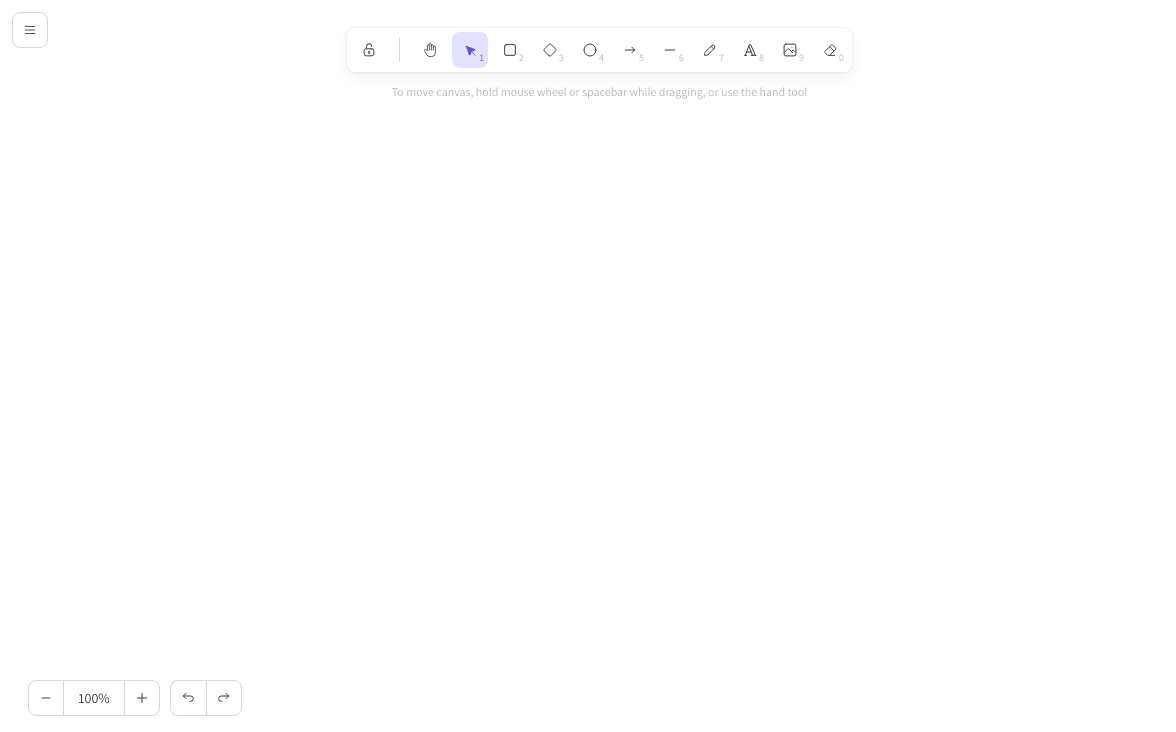
Test: <Creativeboard/> › <MainMenu/> › should update themeToggle text even if MainMenu memoized
This screenshot has width=1176, height=732.
Step 1. Click the button with class "dropdown-menu-button" → (30, 30), box [12, 12, 48, 48]
(page scrolled)
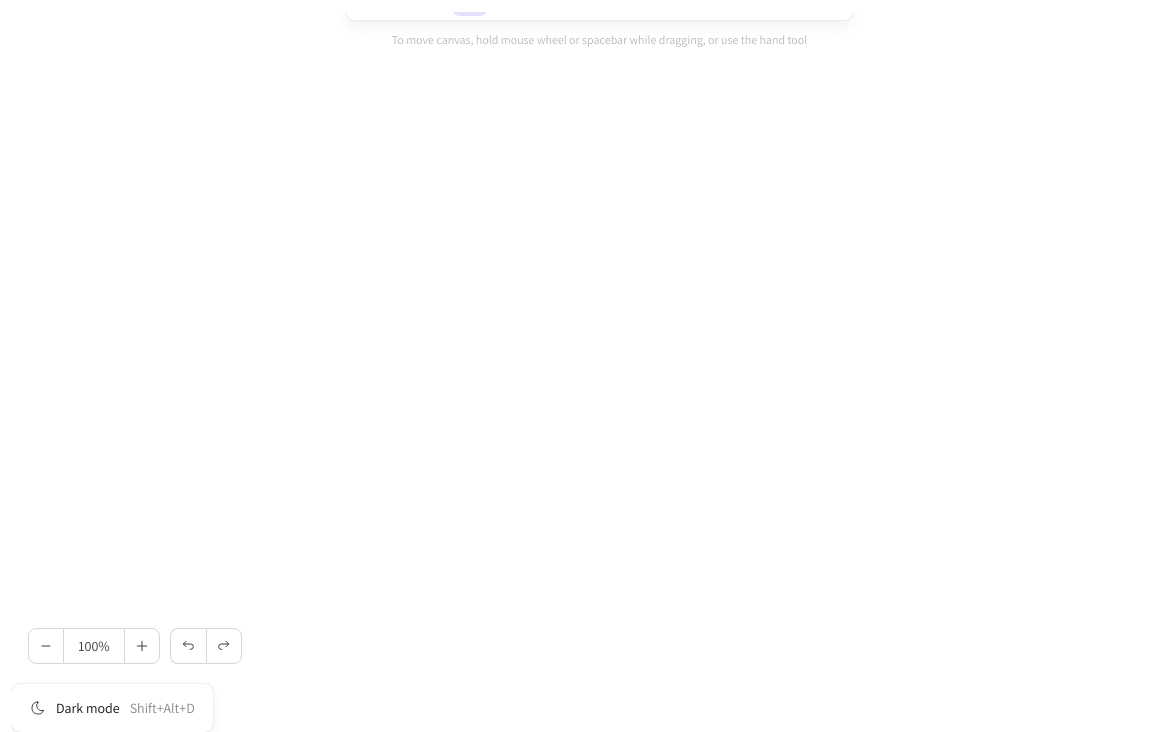
Now the button with test id "toggle-dark-mode" shows "Dark mode"
Step 2. Click the button with test id "toggle-dark-mode" → (112, 708), box [20, 692, 205, 724]
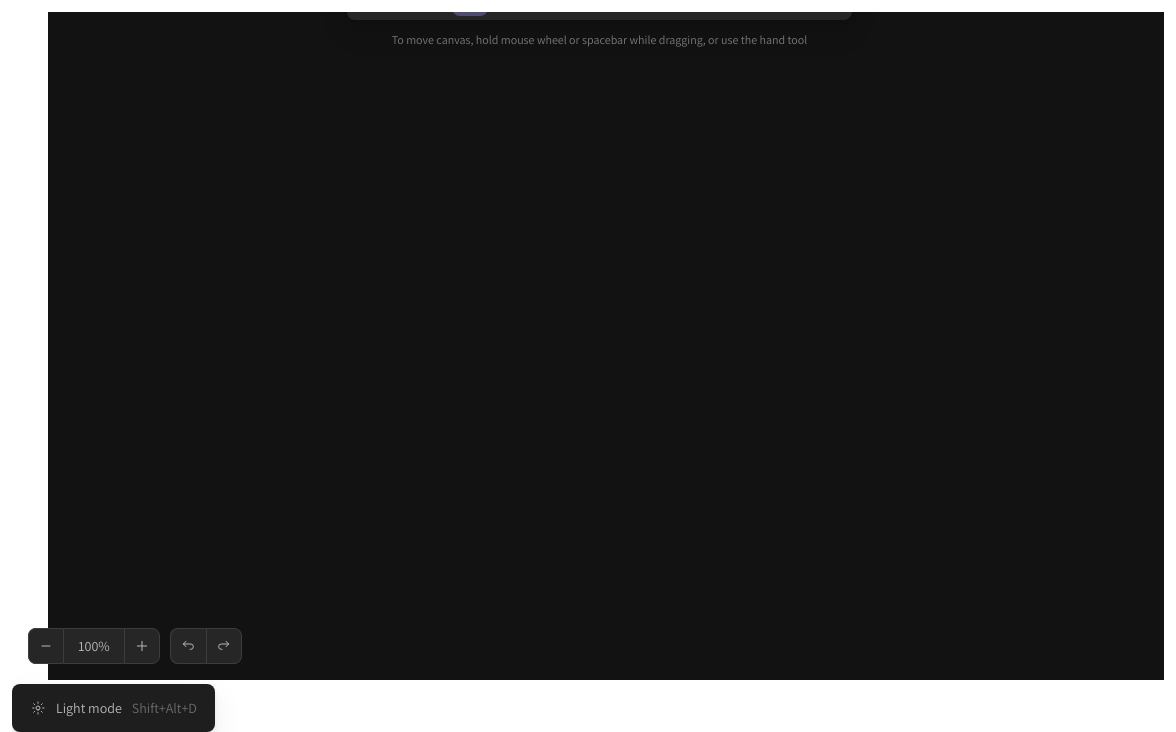
Now the button with test id "toggle-dark-mode" shows "Light mode", box [20, 692, 207, 724]
